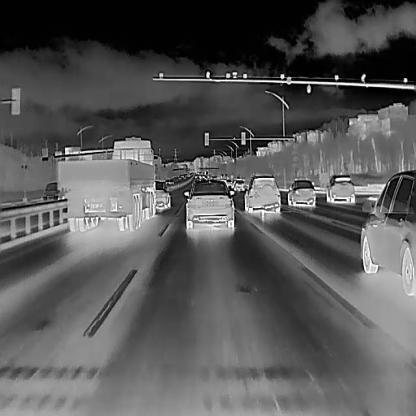car: (360, 168, 416, 296), (182, 180, 235, 232), (241, 174, 282, 213), (325, 174, 355, 204), (286, 178, 316, 207), (152, 178, 170, 213), (42, 180, 60, 204), (232, 178, 244, 190), (164, 176, 173, 186)
truck: (55, 137, 156, 231)
